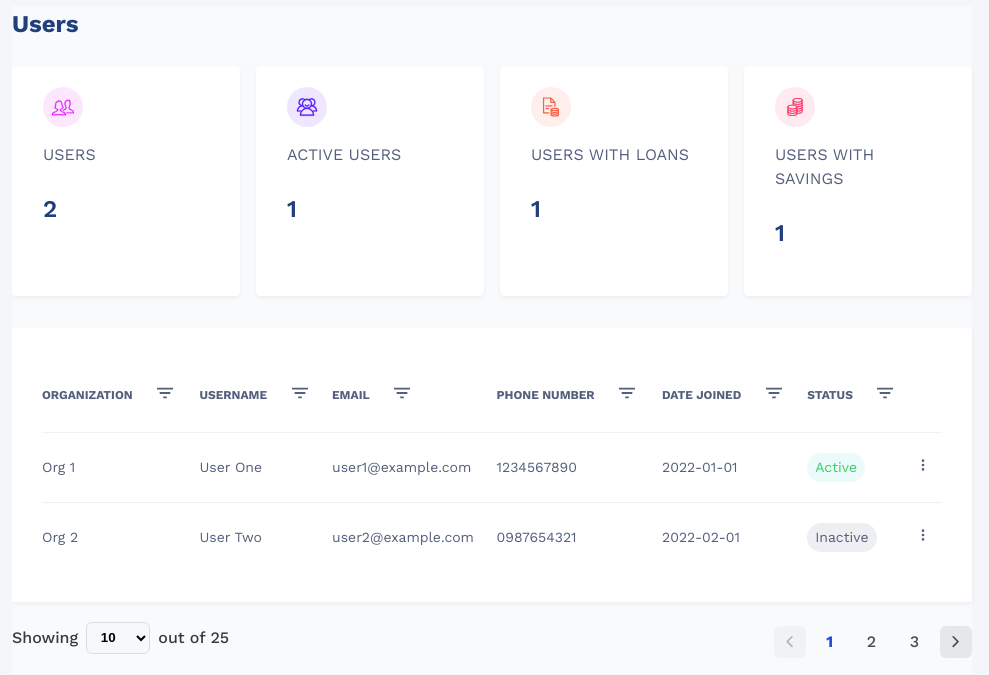
Test: UsersList Component › handles pagination controls
Check: the text "User One" is shown, box [200,432,332,502]
Click the button "2": (872, 642) [854,626,889,658]
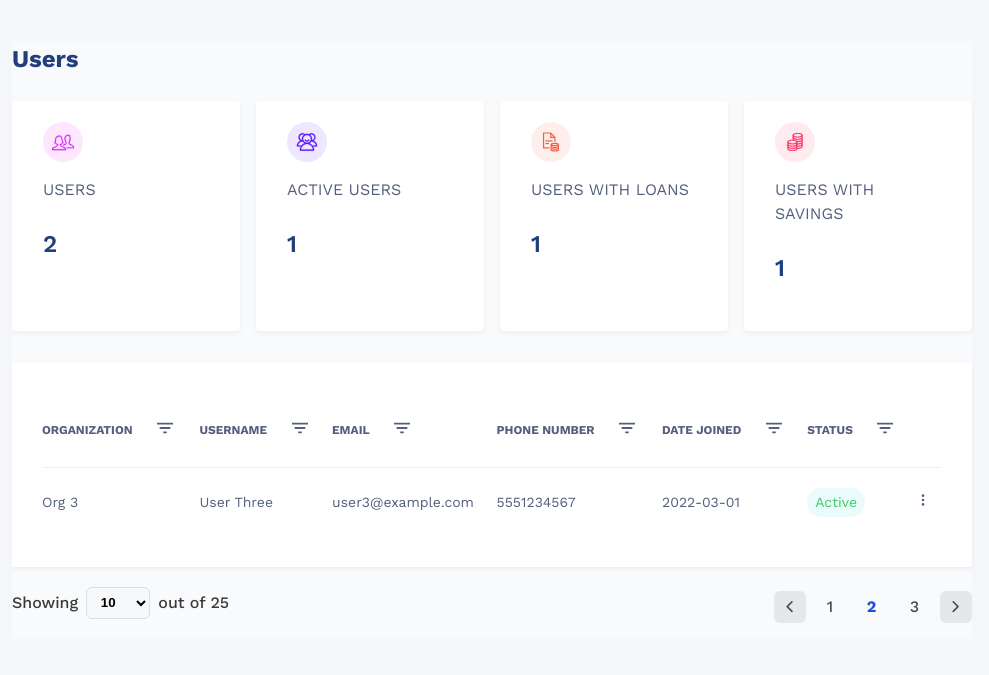
Check: the text "User Three" is shown, box [200,467,332,537]
